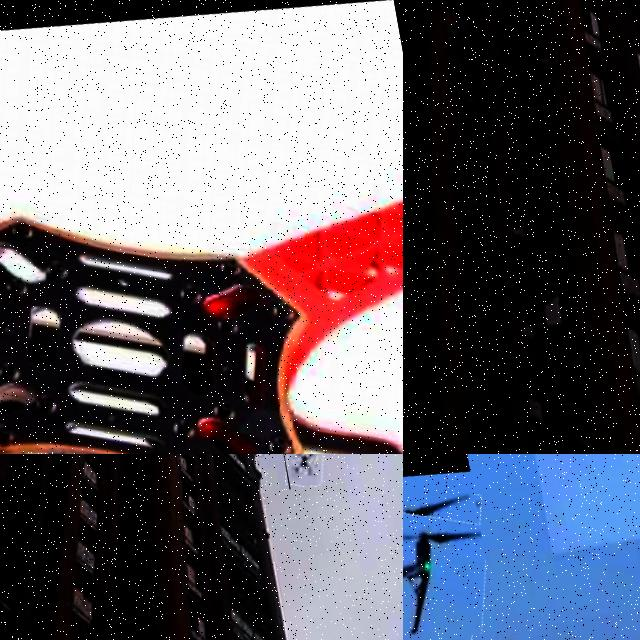drone: (0, 0, 403, 454), (403, 454, 498, 640), (279, 454, 328, 488)
